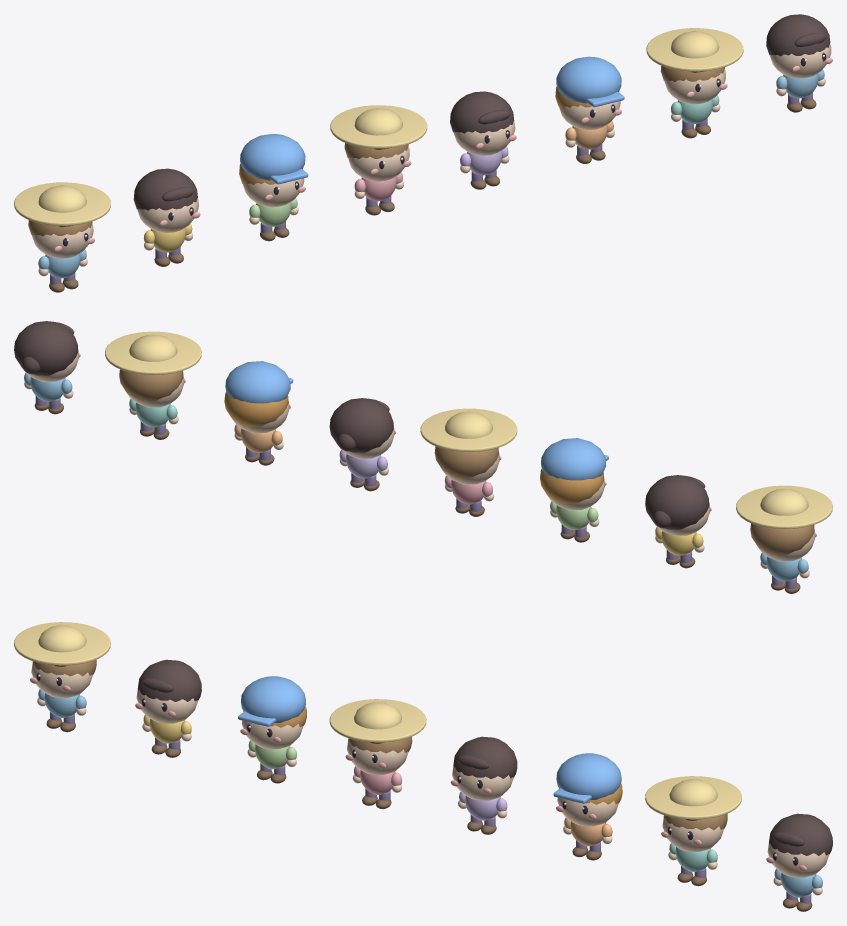
File: pw_warga.glb
The picture shows the model from 3 angles, top to bottom: view 1: azimuth 30°, elevation 25°; view 2: azimuth 150°, elevation 25°; view 3: azimuth 330°, elevation 25°; orthographic projection.
Visible parts, largest first — view 1: Cone.235, Cone.242, Cone.228, Sphere.842, Sphere.894, Sphere.822, Sphere.874, Sphere.926, Sphere.815, Sphere.902, Sphere.919, Sphere.850 (+18 smaller); view 2: Sphere.874, Sphere.926, Sphere.822, Cone.235, Cone.228, Cone.242, Sphere.894, Sphere.842, Sphere.805, Sphere.909, Sphere.857, Sphere.892 (+12 smaller); view 3: Cone.228, Cone.242, Cone.235, Sphere.894, Sphere.842, Sphere.822, Sphere.926, Sphere.874, Sphere.919, Sphere.867, Sphere.815, Sphere.850 (+18 smaller).
Part boxes in pixels (box(x1,y1,x2,y2)): Cone.235: box(330, 105, 427, 148); Cone.242: box(646, 28, 743, 71); Cone.228: box(14, 182, 110, 225); Sphere.842: box(240, 134, 305, 180); Sphere.894: box(556, 56, 621, 103); Sphere.822: box(133, 168, 197, 210); Sphere.874: box(450, 91, 514, 133); Sphere.926: box(766, 14, 830, 56); Sphere.815: box(137, 198, 198, 232); Sphere.902: box(664, 69, 725, 104); Sphere.919: box(769, 43, 831, 78); Sphere.850: box(348, 146, 409, 181); Sphere.874: box(329, 398, 393, 452); Sphere.926: box(14, 321, 77, 375); Sphere.822: box(645, 475, 709, 529); Cone.235: box(420, 408, 517, 451); Cone.228: box(736, 485, 832, 528); Cone.242: box(105, 331, 201, 374); Sphere.894: box(225, 361, 290, 403); Sphere.842: box(541, 438, 605, 480); Sphere.805: box(750, 523, 814, 555); Sphere.909: box(119, 369, 183, 401); Sphere.857: box(434, 446, 498, 478); Sphere.892: box(224, 392, 288, 426); Cone.228: box(14, 622, 110, 665); Cone.242: box(645, 776, 741, 819); Cone.235: box(329, 699, 426, 742); Sphere.894: box(556, 753, 621, 799); Sphere.842: box(241, 676, 305, 722); Sphere.822: box(137, 659, 201, 701); Sphere.926: box(769, 813, 832, 855); Sphere.874: box(453, 736, 517, 778); Sphere.919: box(767, 843, 829, 877); Sphere.867: box(452, 766, 513, 800); Sphere.815: box(136, 689, 198, 723); Sphere.850: box(347, 740, 408, 774).
Bounding box in the file's own units: 15.33 × 1.81 × 1.6.
